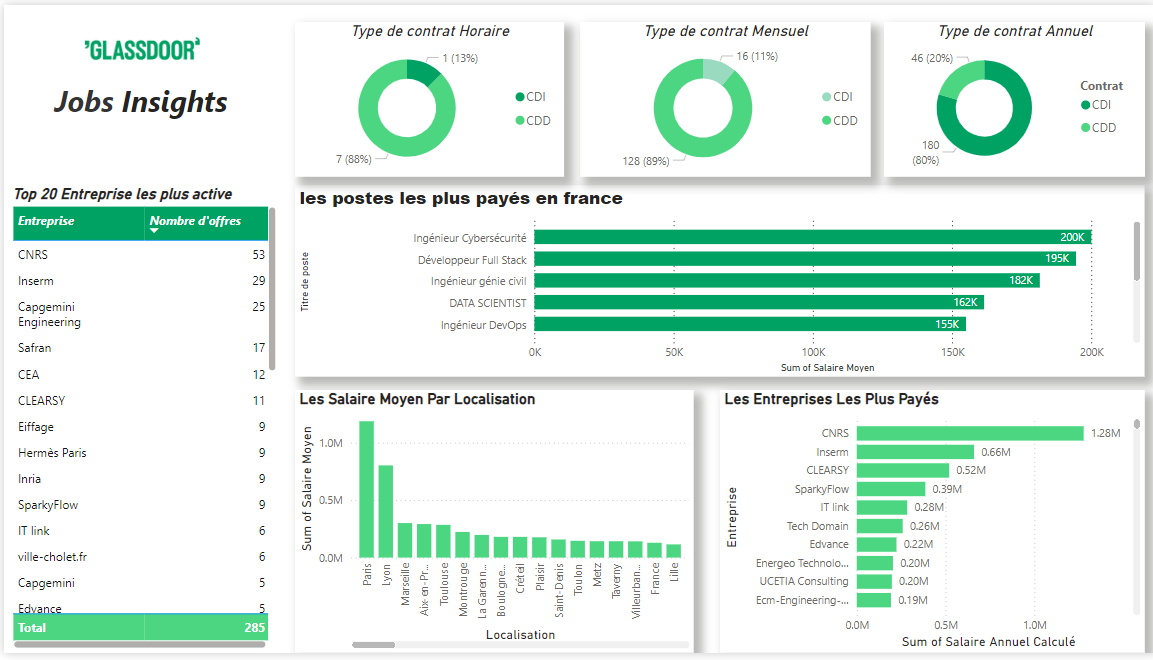

The page's visual inventory and layout, read from the dashboard file:
{"tool":"powerbi","page":{"name":"Page 1","canvas":[1280,720],"ordinal":0},"visuals":[{"type":"clusteredBarChart","title":"les postes les plus payés en france","fields":{"Category":["Dataset_Clean_glassdoor.Titre de poste "],"Y":["Sum(Dataset_Clean_glassdoor.Salaire Moyen)"]},"box":[323.3,200,944.4,213.3],"z":0},{"type":"columnChart","title":"Les Salaire Moyen Par Localisation","fields":{"Category":["Dataset_Clean_glassdoor.Localisation"],"Y":["Sum(Dataset_Clean_glassdoor.Salaire Moyen)"]},"box":[323.3,427.8,443.3,292.2],"z":1000},{"type":"tableEx","title":"Top 20 Entreprise les plus active","fields":{"Values":["Dataset_Clean_glassdoor.Entreprise","Dataset_Clean_glassdoor.Nombre d'offres"]},"box":[4.4,200,303.3,520],"z":2000},{"type":"donutChart","title":"Type de contrat  Mensuel","fields":{"Y":["Dataset_Clean_glassdoor.Nombre_CDI_Mensuel","Dataset_Clean_glassdoor.Nombre_CDD_Mensuel"]},"box":[640,18.9,323.3,172.2],"z":3000},{"type":"donutChart","title":"Type de contrat  Annuel ","fields":{"Y":["Dataset_Clean_glassdoor.Nombre_CDI_Annuel","Dataset_Clean_glassdoor.Nombre_CDD_Annuel"]},"box":[977.8,18.9,290,172.2],"z":4000},{"type":"donutChart","title":"Type de contrat  Horaire ","fields":{"Y":["Dataset_Clean_glassdoor.Nombre_CDI_Horaire","Dataset_Clean_glassdoor.Nombre_CDD_Horaire"]},"box":[323.3,18.9,298.9,172.2],"z":5000},{"type":"barChart","title":"Les Entreprises Les Plus Payés ","fields":{"Category":["Dataset_Clean_glassdoor.Entreprise"],"Y":["Sum(Dataset_Clean_glassdoor.Salaire Annuel Calculé)"]},"box":[795.6,427.8,472.2,292.2],"z":7000},{"type":"textbox","box":[15.6,78.9,282.2,60],"z":7001},{"type":"image","box":[13.3,18.9,286.7,60],"z":7002}]}

Visuals, with their boxes in screenshot pixels (x1, y1, x2, y2), scaled from the page's 1280x720 canvas onto the 1153x660 screenshot:
"les postes les plus payés en france" clusteredBarChart: select_region(291, 183, 1142, 379)
"Les Salaire Moyen Par Localisation" columnChart: select_region(291, 392, 691, 659)
"Top 20 Entreprise les plus active" tableEx: select_region(4, 183, 277, 659)
"Type de contrat  Mensuel" donutChart: select_region(576, 17, 868, 175)
"Type de contrat  Annuel " donutChart: select_region(881, 17, 1142, 175)
"Type de contrat  Horaire " donutChart: select_region(291, 17, 560, 175)
"Les Entreprises Les Plus Payés " barChart: select_region(717, 392, 1142, 659)
textbox: select_region(14, 72, 268, 127)
image: select_region(12, 17, 270, 72)
